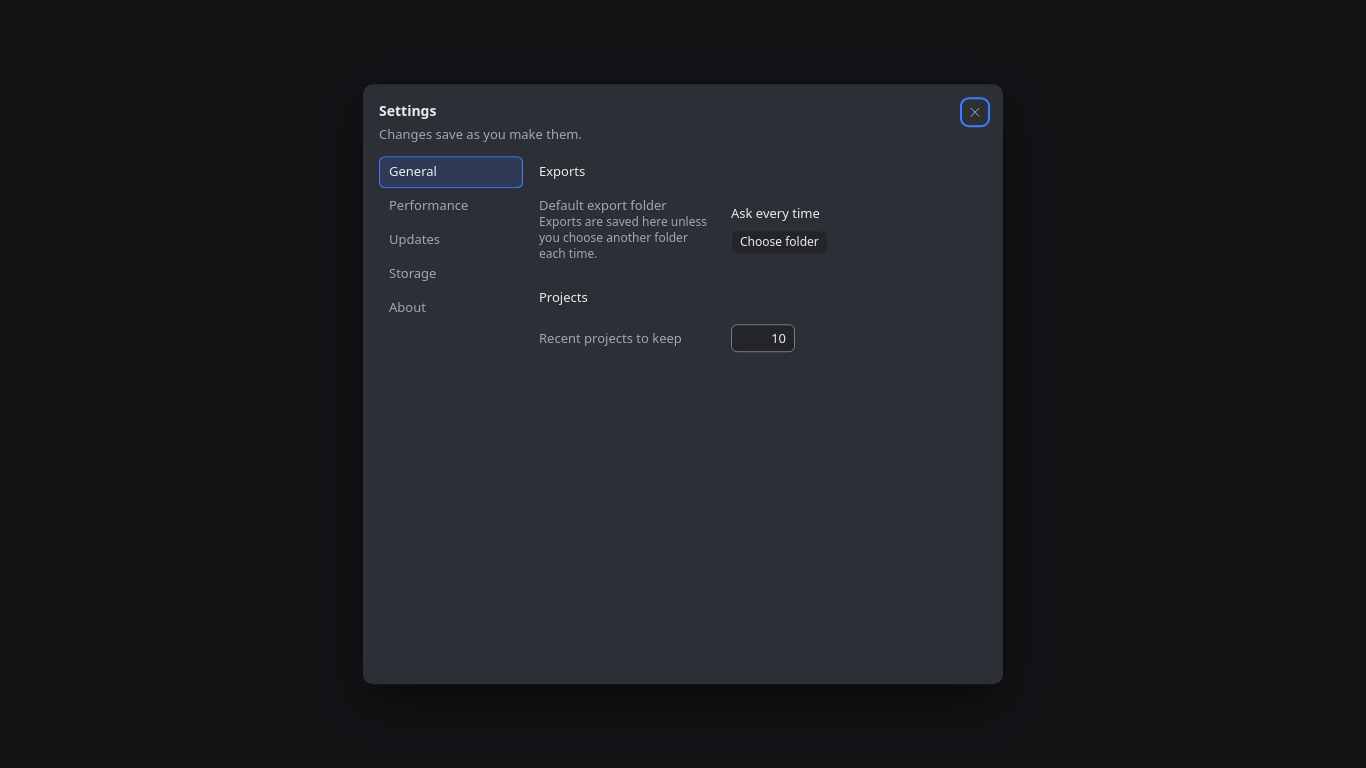
SettingsDialog › names the plain number fields through their row labels
Check: the heading "Projects" is shown, box [539,289,588,307]
Check: the field named "Recent projects to keep" is shown, box [740,329,786,348]
Step 1. Click the tab "Storage" → (451, 274), box [379,258,523,290]
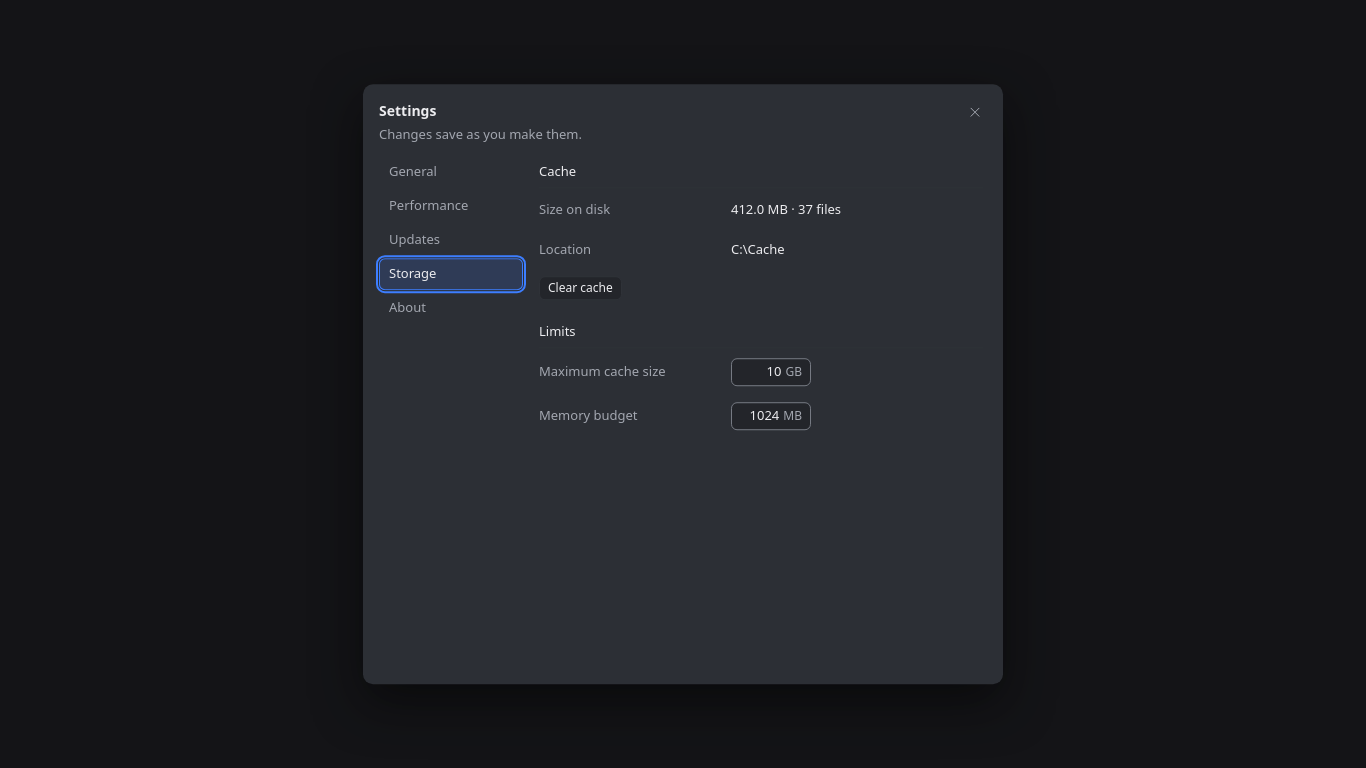
Check: the field named "Maximum cache size" next to "GB" is shown, box [740,362,782,381]
Check: the heading "Limits" is shown, box [539,322,576,341]
